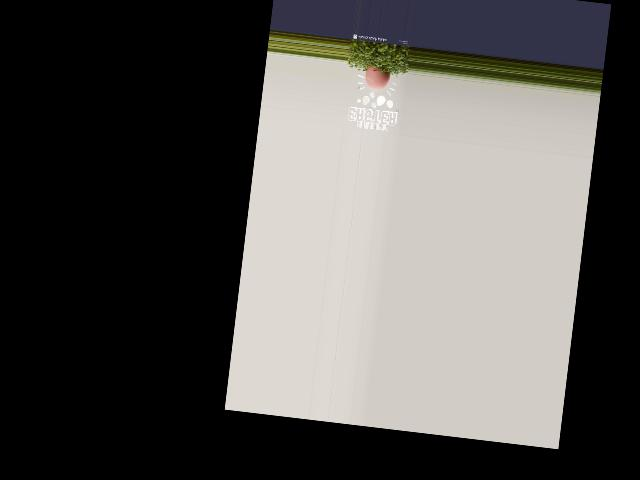egg: (364, 65, 391, 92)
